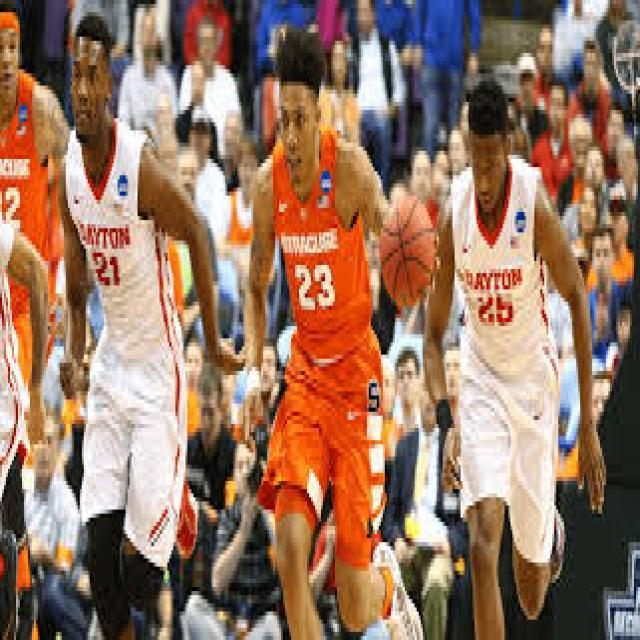rim: (380, 200, 434, 310)
